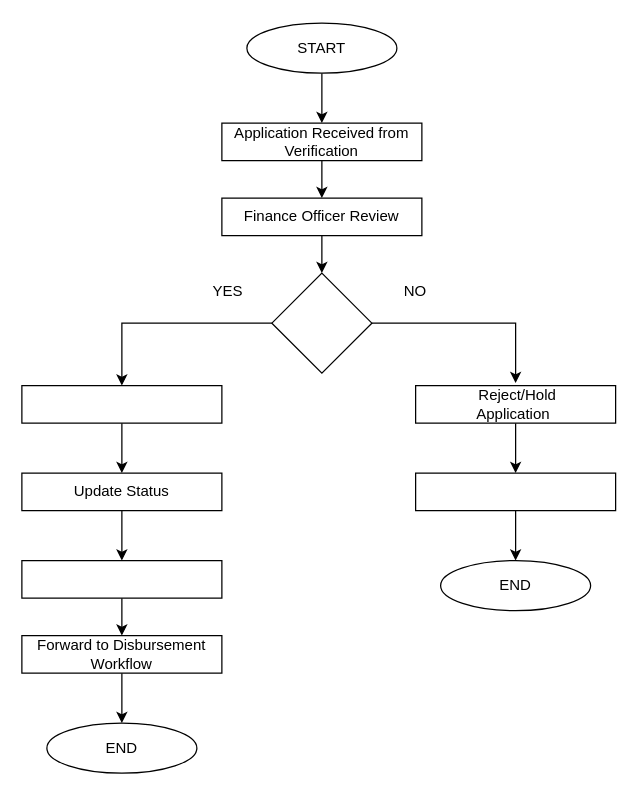
Image size: 638x796. Some labels were removed from this diagram. Here are the shapes that lost their labels. From the top down, the box of each, then its label:
(271, 272, 372, 373): Budget Available?
(21, 384, 222, 423): Approve Application
(414, 472, 616, 511): Notify Beneficiary
(21, 559, 222, 598): Generate Approval Record
